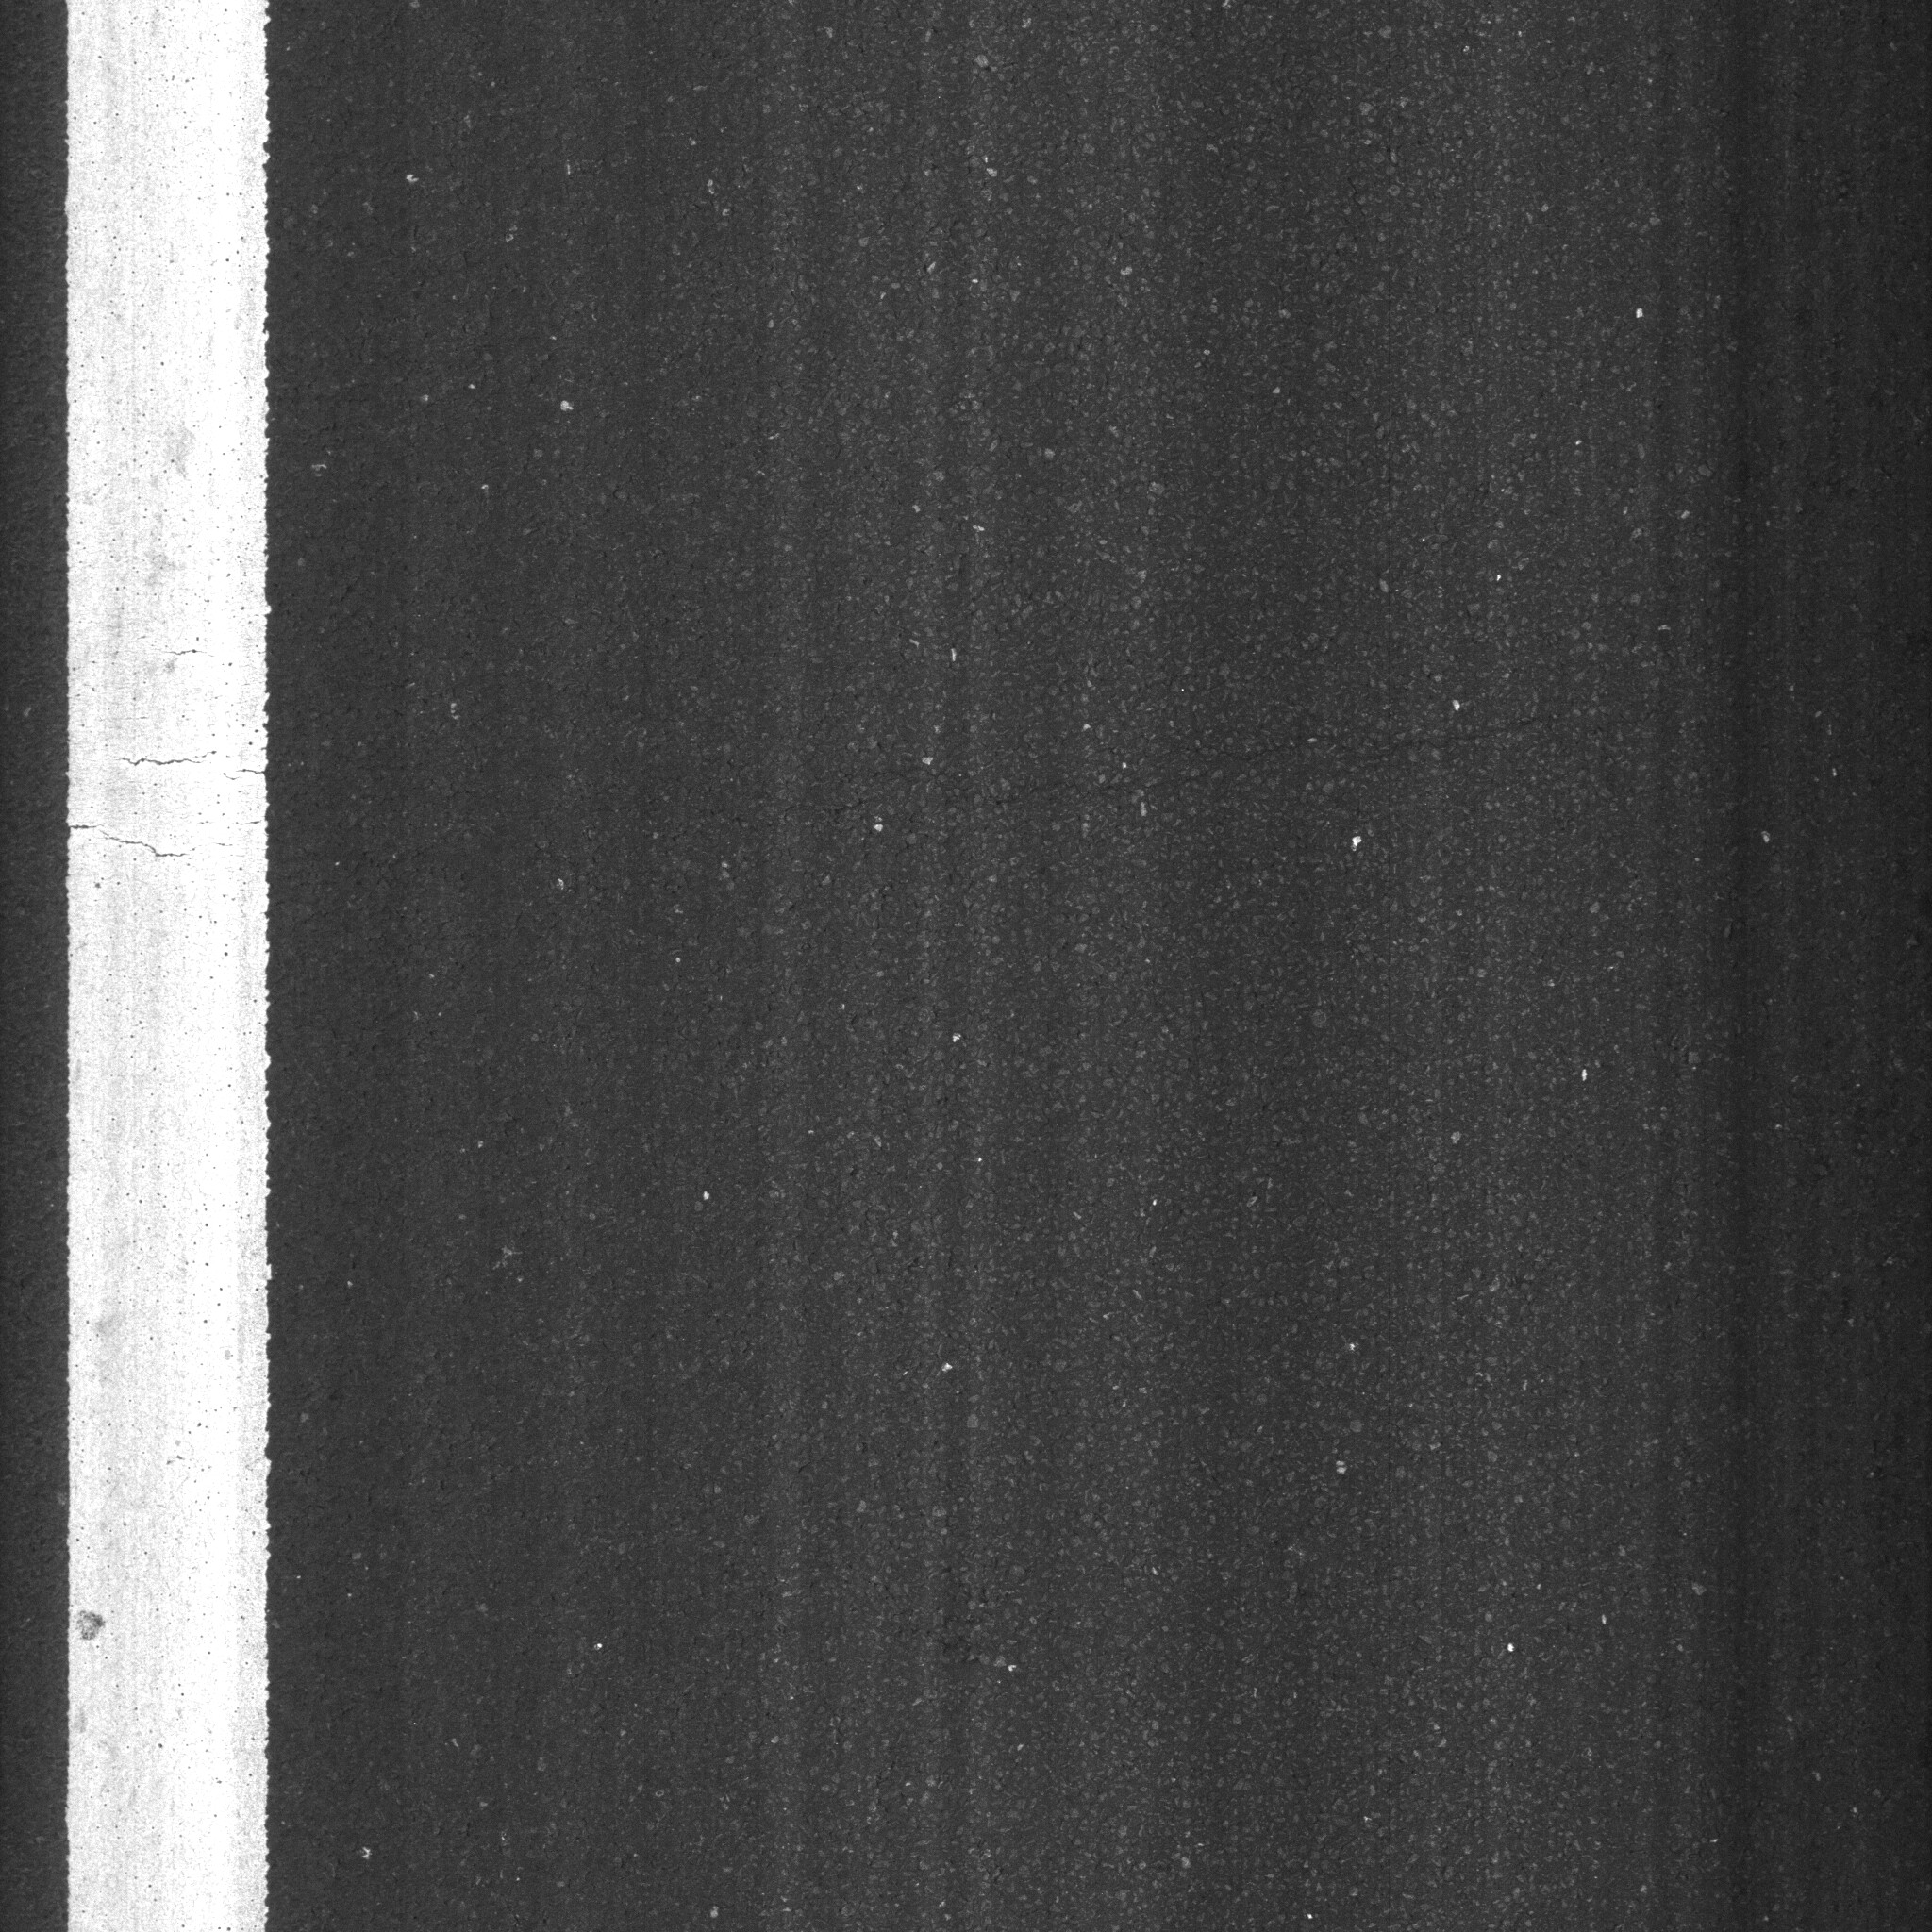transeverse: (1182, 708, 1615, 766)
